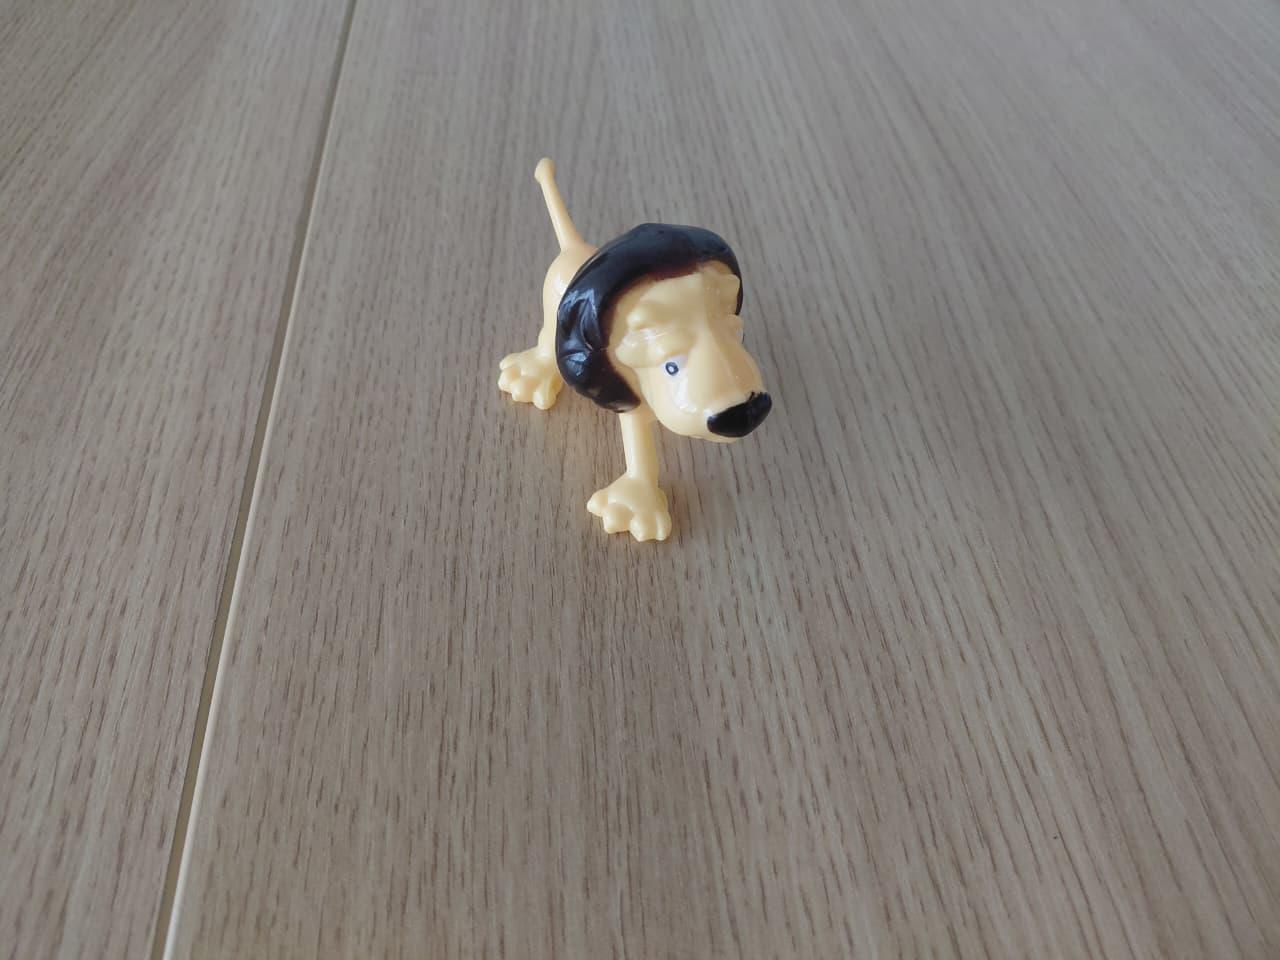lion: (484, 126, 805, 607)
